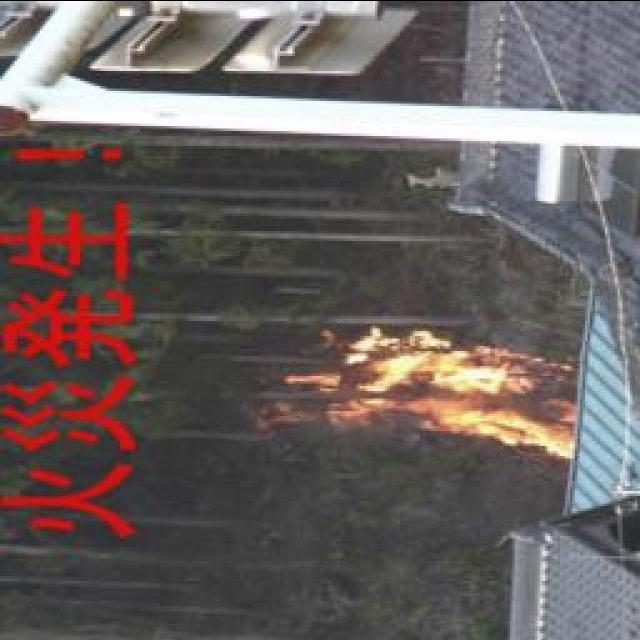Fire: (272, 327, 586, 447)
